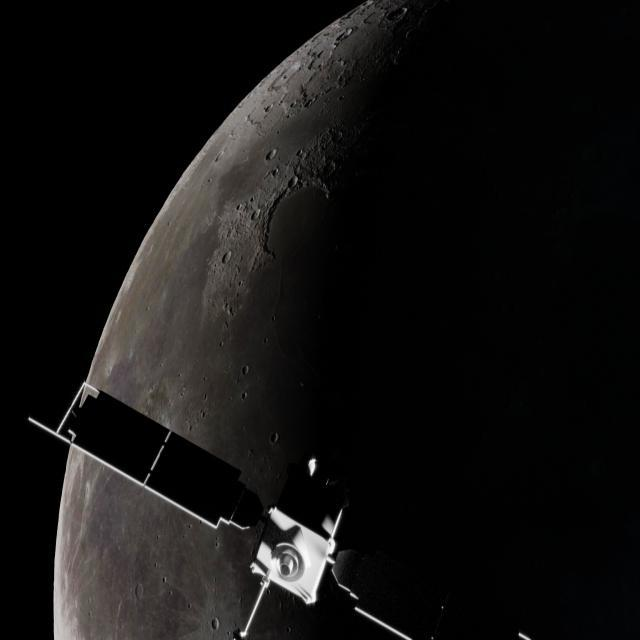satellite: (26, 376, 525, 640)
